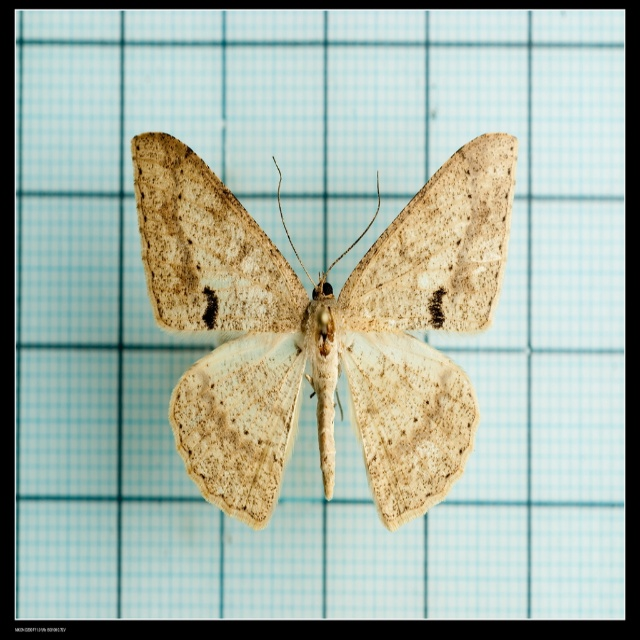Butterfly: (131, 133, 516, 534)
